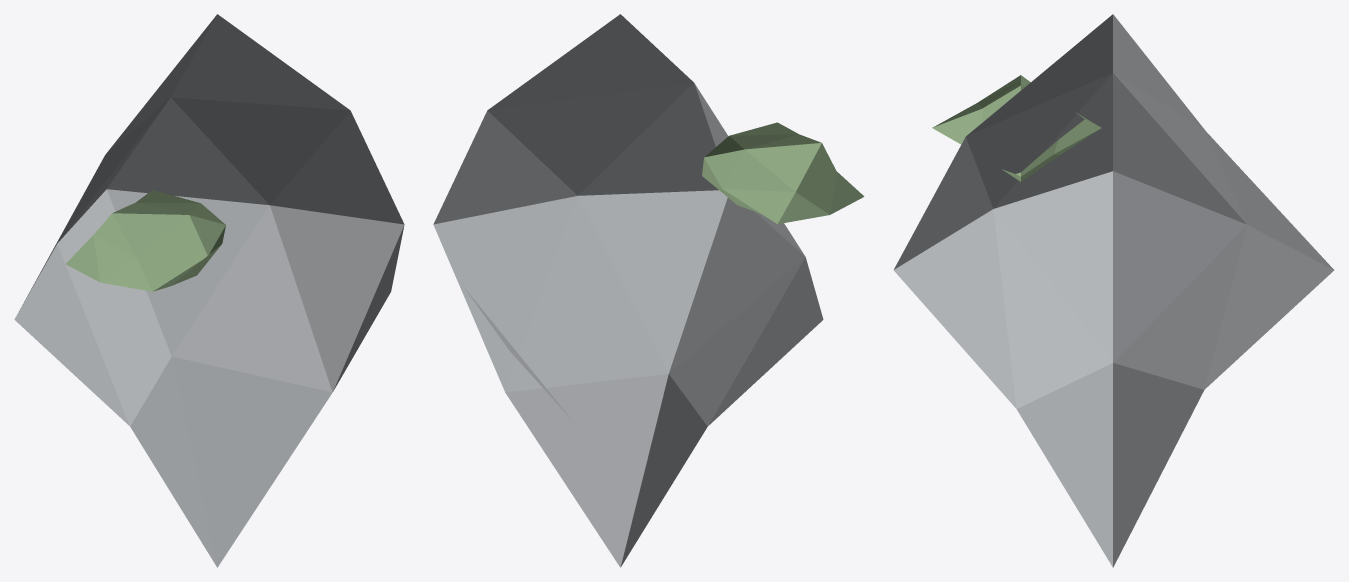
The model's file is boulder_v15.glb.
3 renders of one model, left to right at view 1: azimuth 30°, elevation 25°; view 2: azimuth 150°, elevation 25°; view 3: azimuth 270°, elevation 25°, orthographic.
Visible parts, largest first — view 1: lod0; view 2: lod0; view 3: lod0.
Boxes of the visible parts, x1,y1,x2,y2 form: lod0: (14,14,404,567); lod0: (433,14,864,567); lod0: (893,14,1334,567).
Size of what is drawn, in the model's own units: 1.76 by 2.39 by 1.72.
